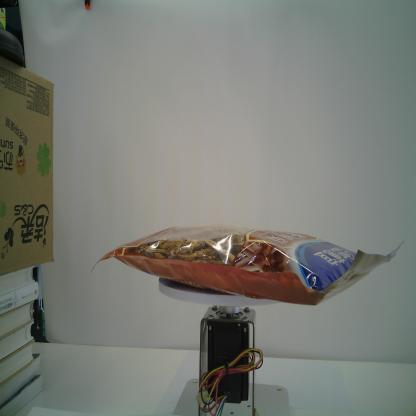Dried Food: (89, 224, 406, 307)
